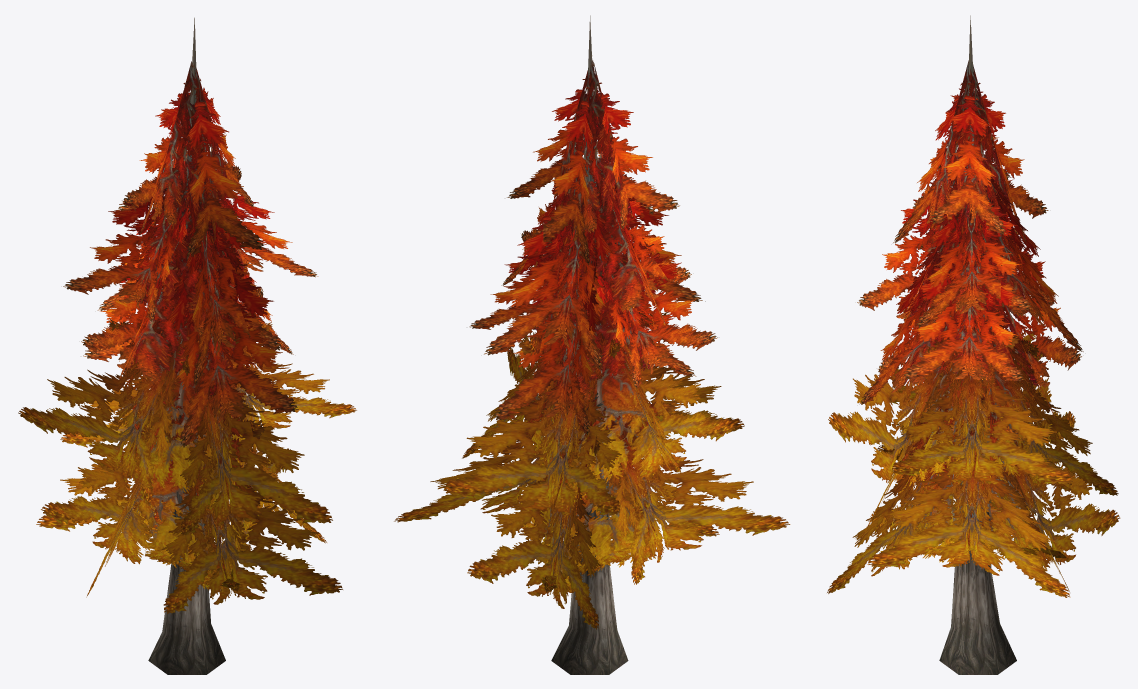
The model's file is alteractree08.obj.
3 renders of one model, left to right at view 1: azimuth 30°, elevation 25°; view 2: azimuth 150°, elevation 25°; view 3: azimuth 270°, elevation 25°, orthographic.
Visible parts, largest first — view 1: ALTERACTREE081, ALTERACTREE082, ALTERACTREE080; view 2: ALTERACTREE081, ALTERACTREE082, ALTERACTREE080; view 3: ALTERACTREE081, ALTERACTREE082, ALTERACTREE080.
Part boxes in pixels (box(x1,y1,x2,y2)): ALTERACTREE081: box(18, 307, 356, 613); ALTERACTREE082: box(63, 56, 318, 447); ALTERACTREE080: box(148, 17, 225, 674); ALTERACTREE081: box(394, 307, 790, 629); ALTERACTREE082: box(469, 55, 717, 434); ALTERACTREE080: box(551, 15, 628, 674); ALTERACTREE081: box(827, 305, 1120, 597); ALTERACTREE082: box(857, 60, 1083, 426); ALTERACTREE080: box(939, 15, 1016, 674).
Size of the model in its own units: 45.26 by 90.28 by 37.89.
Materials: 3 (3 with a texture image).
